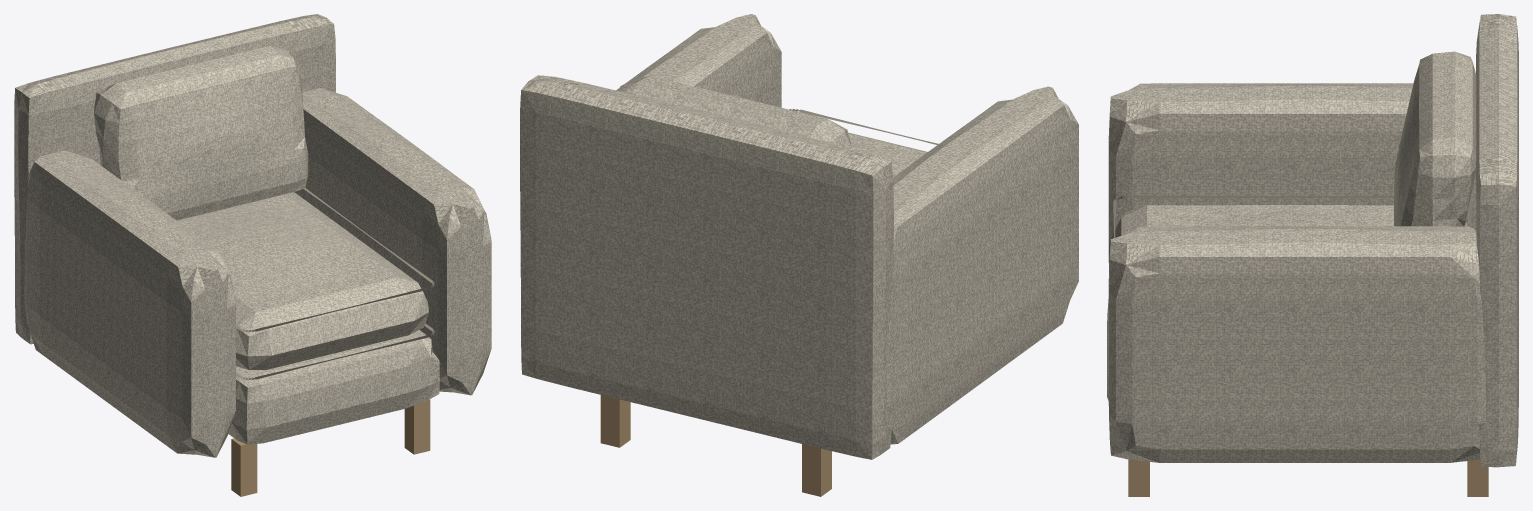
File: HIN-ARM-std.glb
3 views of the same model, side by side, from view 1: azimuth 30°, elevation 25°; view 2: azimuth 150°, elevation 25°; view 3: azimuth 270°, elevation 25° (orthographic). The views are drawn at different scales.
Parts seen in each view (by area): view 1: arm-pad-l:fabric:eyJwcmVzZXQiOiJib3VjbGUiLCJ3YXJwIjoiY3JlYW0, arm-pad-r:fabric:eyJwcmVzZXQiOiJib3VjbGUiLCJ3YXJwIjoiY3JlYW0, inside-back:fabric:eyJwcmVzZXQiOiJib3VjbGUiLCJ3YXJwIjoiY3JlY, seat:fabric:eyJwcmVzZXQiOiJib3VjbGUiLCJ3YXJwIjoiY3JlYW0iLCJ3, back-pad:fabric:eyJwcmVzZXQiOiJib3VjbGUiLCJ3YXJwIjoiY3JlYW0i, deck:fabric:eyJwcmVzZXQiOiJib3VjbGUiLCJ3YXJwIjoiY3JlYW0iLCJ3, leg-fl:pbr, seat:piping:pbr, leg-fr:pbr; view 2: back-pad:fabric:eyJwcmVzZXQiOiJib3VjbGUiLCJ3YXJwIjoiY3JlYW0i, arm-pad-l:fabric:eyJwcmVzZXQiOiJib3VjbGUiLCJ3YXJwIjoiY3JlYW0, arm-pad-r:fabric:eyJwcmVzZXQiOiJib3VjbGUiLCJ3YXJwIjoiY3JlYW0, inside-back:fabric:eyJwcmVzZXQiOiJib3VjbGUiLCJ3YXJwIjoiY3JlY, leg-br:pbr, leg-bl:pbr, seat:fabric:eyJwcmVzZXQiOiJib3VjbGUiLCJ3YXJwIjoiY3JlYW0iLCJ3; view 3: arm-pad-r:fabric:eyJwcmVzZXQiOiJib3VjbGUiLCJ3YXJwIjoiY3JlYW0, arm-pad-l:fabric:eyJwcmVzZXQiOiJib3VjbGUiLCJ3YXJwIjoiY3JlYW0, back-pad:fabric:eyJwcmVzZXQiOiJib3VjbGUiLCJ3YXJwIjoiY3JlYW0i, inside-back:fabric:eyJwcmVzZXQiOiJib3VjbGUiLCJ3YXJwIjoiY3JlY, seat:fabric:eyJwcmVzZXQiOiJib3VjbGUiLCJ3YXJwIjoiY3JlYW0iLCJ3, seat:piping:pbr, leg-fr:pbr, leg-br:pbr.
Boxes of the visible parts, x1,y1,x2,y2 form: arm-pad-l:fabric:eyJwcmVzZXQiOiJib3VjbGUiLCJ3YXJwIjoiY3JlYW0: (24, 150, 235, 457); arm-pad-r:fabric:eyJwcmVzZXQiOiJib3VjbGUiLCJ3YXJwIjoiY3JlYW0: (294, 88, 491, 395); inside-back:fabric:eyJwcmVzZXQiOiJib3VjbGUiLCJ3YXJwIjoiY3JlY: (94, 46, 308, 220); seat:fabric:eyJwcmVzZXQiOiJib3VjbGUiLCJ3YXJwIjoiY3JlYW0iLCJ3: (177, 192, 428, 369); back-pad:fabric:eyJwcmVzZXQiOiJib3VjbGUiLCJ3YXJwIjoiY3JlYW0i: (14, 14, 335, 344); deck:fabric:eyJwcmVzZXQiOiJib3VjbGUiLCJ3YXJwIjoiY3JlYW0iLCJ3: (228, 330, 439, 444); leg-fl:pbr: (231, 438, 257, 496); seat:piping:pbr: (236, 188, 434, 379); leg-fr:pbr: (404, 399, 430, 454); back-pad:fabric:eyJwcmVzZXQiOiJib3VjbGUiLCJ3YXJwIjoiY3JlYW0i: (520, 75, 893, 459); arm-pad-l:fabric:eyJwcmVzZXQiOiJib3VjbGUiLCJ3YXJwIjoiY3JlYW0: (887, 86, 1078, 444); arm-pad-r:fabric:eyJwcmVzZXQiOiJib3VjbGUiLCJ3YXJwIjoiY3JlYW0: (616, 14, 781, 107); inside-back:fabric:eyJwcmVzZXQiOiJib3VjbGUiLCJ3YXJwIjoiY3JlY: (618, 75, 851, 148); leg-br:pbr: (600, 395, 630, 447); leg-bl:pbr: (802, 444, 831, 496); seat:fabric:eyJwcmVzZXQiOiJib3VjbGUiLCJ3YXJwIjoiY3JlYW0iLCJ3: (848, 132, 927, 177); arm-pad-r:fabric:eyJwcmVzZXQiOiJib3VjbGUiLCJ3YXJwIjoiY3JlYW0: (1108, 226, 1485, 462); arm-pad-l:fabric:eyJwcmVzZXQiOiJib3VjbGUiLCJ3YXJwIjoiY3JlYW0: (1108, 83, 1475, 270); back-pad:fabric:eyJwcmVzZXQiOiJib3VjbGUiLCJ3YXJwIjoiY3JlYW0i: (1476, 14, 1518, 467); inside-back:fabric:eyJwcmVzZXQiOiJib3VjbGUiLCJ3YXJwIjoiY3JlY: (1394, 51, 1476, 226); seat:fabric:eyJwcmVzZXQiOiJib3VjbGUiLCJ3YXJwIjoiY3JlYW0iLCJ3: (1109, 205, 1468, 262); seat:piping:pbr: (1113, 195, 1471, 237); leg-fr:pbr: (1128, 459, 1149, 496); leg-br:pbr: (1467, 459, 1488, 496).
Size of the model in its own units: 0.85 by 0.8 by 0.85.
Materials: 11 (6 with a texture image).
